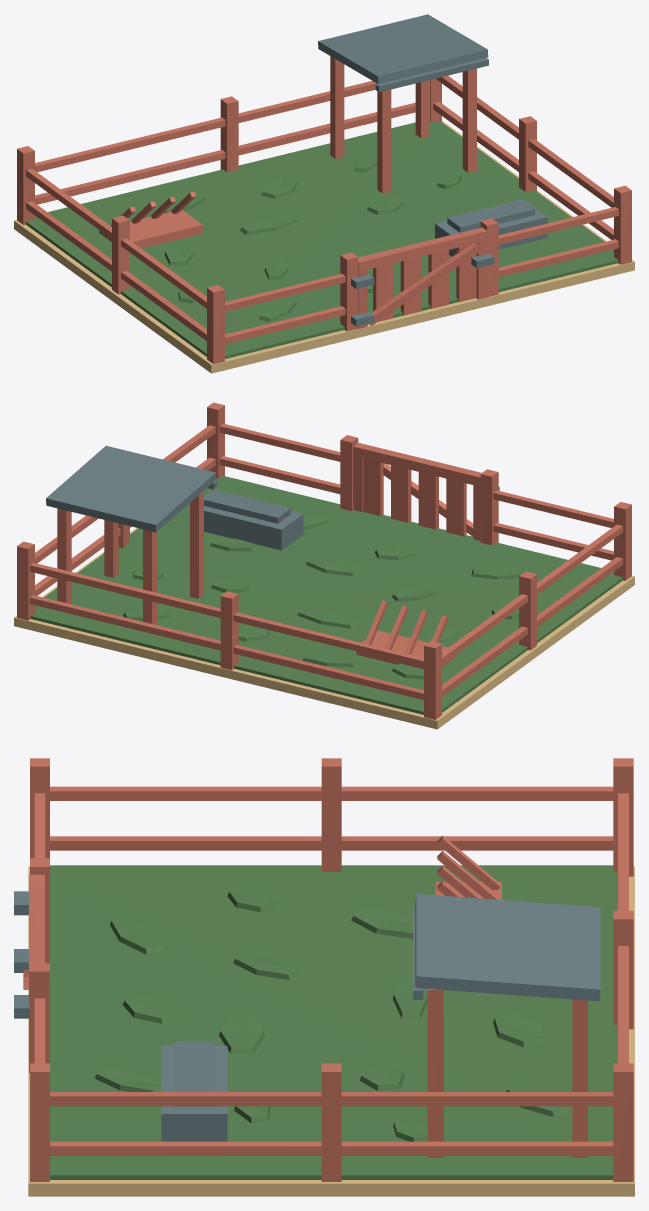
The model's file is Animal-Pasture.glb.
The picture shows the model from 3 angles, top to bottom: view 1: azimuth 30°, elevation 25°; view 2: azimuth 150°, elevation 25°; view 3: azimuth 270°, elevation 25°; orthographic projection. The views are drawn at different scales.
Parts seen in each view (by area): view 1: animal-pasture-static-animal-pasture-muted-grazing-grass, animal-pasture-static-animal-pasture-weathered-timber, animal-pasture-static-animal-pasture-galvanized-fixtures, animal-pasture-static-animal-pasture-earth-terrain, animal-pasture-static-animal-pasture-dark-iron-hardware; view 2: animal-pasture-static-animal-pasture-muted-grazing-grass, animal-pasture-static-animal-pasture-weathered-timber, animal-pasture-static-animal-pasture-galvanized-fixtures, animal-pasture-static-animal-pasture-earth-terrain, animal-pasture-static-animal-pasture-dark-iron-hardware; view 3: animal-pasture-static-animal-pasture-muted-grazing-grass, animal-pasture-static-animal-pasture-weathered-timber, animal-pasture-static-animal-pasture-galvanized-fixtures, animal-pasture-static-animal-pasture-earth-terrain, animal-pasture-static-animal-pasture-dark-iron-hardware.
Boxes of the visible parts, x1,y1,x2,y2 form: animal-pasture-static-animal-pasture-muted-grazing-grass: (26, 120, 618, 358); animal-pasture-static-animal-pasture-weathered-timber: (17, 56, 631, 363); animal-pasture-static-animal-pasture-galvanized-fixtures: (318, 14, 547, 256); animal-pasture-static-animal-pasture-earth-terrain: (14, 121, 634, 373); animal-pasture-static-animal-pasture-dark-iron-hardware: (351, 58, 535, 326); animal-pasture-static-animal-pasture-muted-grazing-grass: (30, 475, 622, 714); animal-pasture-static-animal-pasture-weathered-timber: (17, 402, 631, 719); animal-pasture-static-animal-pasture-galvanized-fixtures: (46, 445, 303, 550); animal-pasture-static-animal-pasture-earth-terrain: (14, 528, 634, 729); animal-pasture-static-animal-pasture-dark-iron-hardware: (204, 481, 499, 523); animal-pasture-static-animal-pasture-muted-grazing-grass: (50, 865, 617, 1179); animal-pasture-static-animal-pasture-weathered-timber: (23, 758, 633, 1181); animal-pasture-static-animal-pasture-galvanized-fixtures: (161, 894, 600, 1141); animal-pasture-static-animal-pasture-earth-terrain: (28, 866, 634, 1196); animal-pasture-static-animal-pasture-dark-iron-hardware: (14, 891, 423, 1106).
Bounding box in the file's own units: 5.2 × 1.57 × 4.3.
